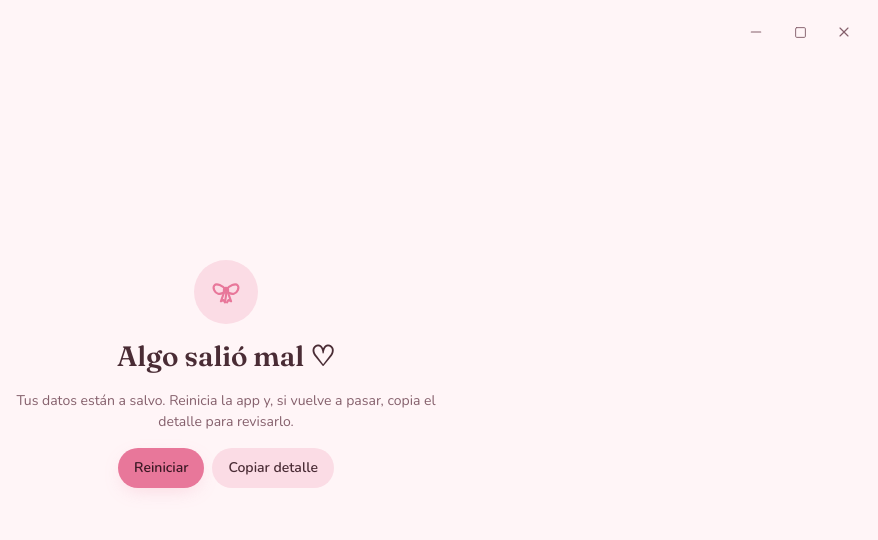
Test: ErrorBoundary › says so when the detail cannot be copied
Click the button "Copiar detalle".
click(273, 468)  # box [212,448,334,488]
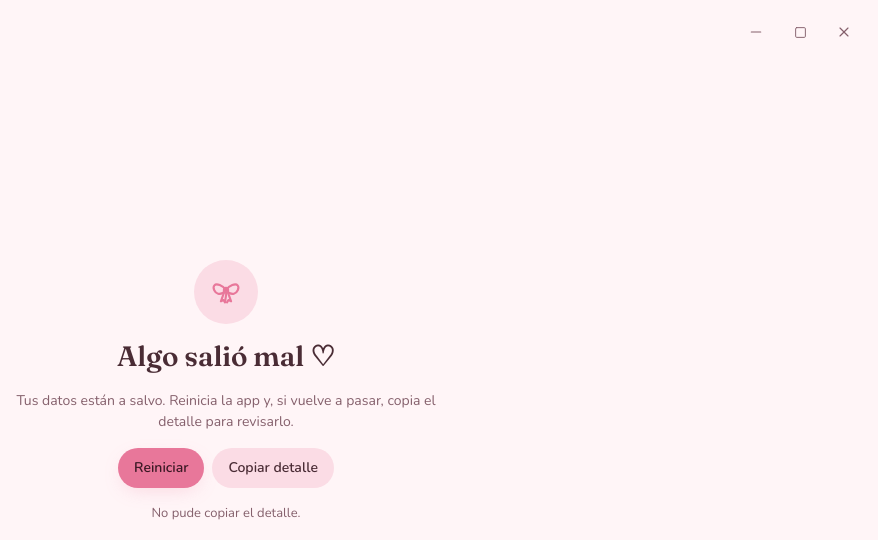
expect the text "No pude copiar el detalle." is shown: met, box [151,504,300,524]
